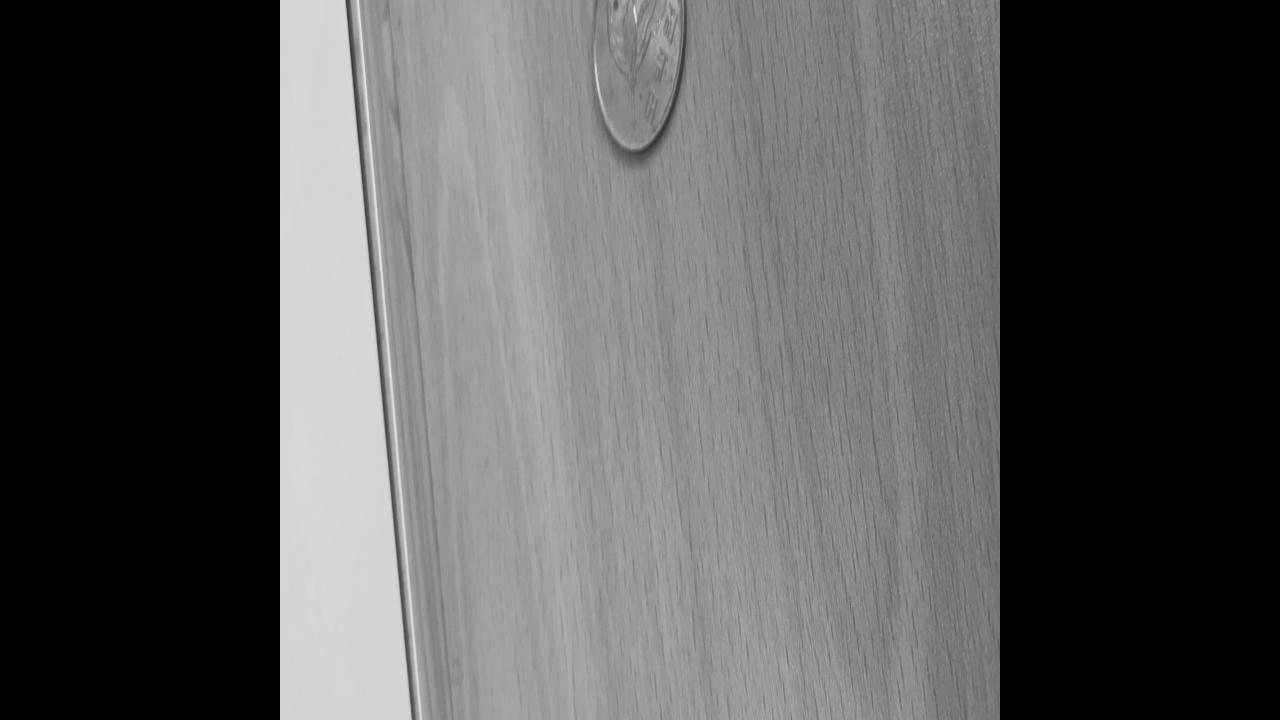coin: (588, 0, 686, 160)
